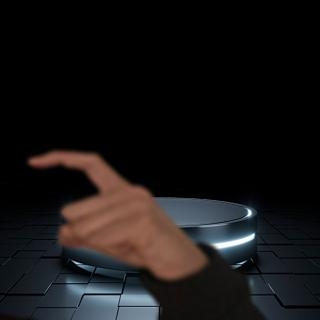WHY: (21, 144, 206, 276)
